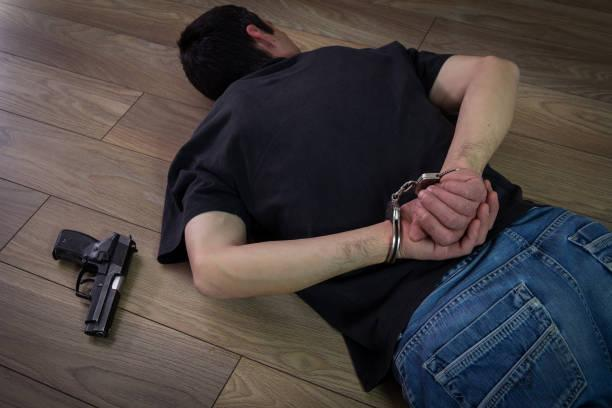weapon: (53, 228, 138, 338)
